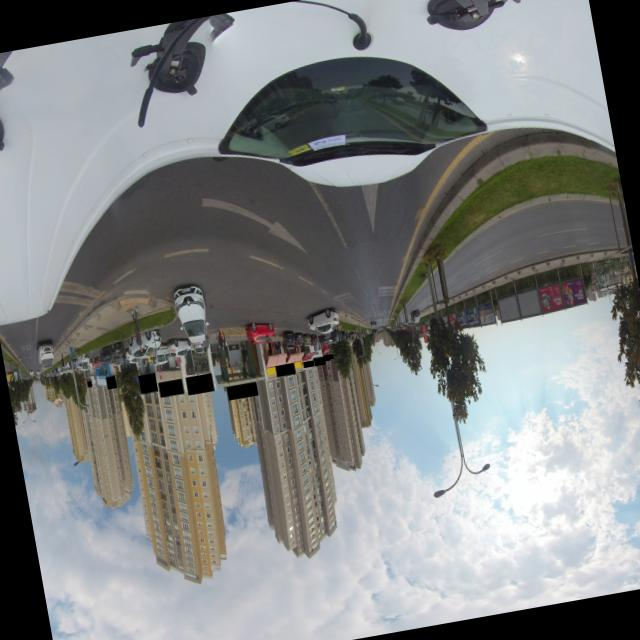SignStore: (184, 372, 213, 390), (225, 381, 257, 397), (137, 374, 157, 390), (157, 380, 181, 393), (274, 362, 294, 376), (104, 376, 114, 387), (302, 359, 313, 367), (312, 356, 324, 363), (322, 354, 329, 359), (86, 380, 91, 385), (328, 352, 332, 358)
